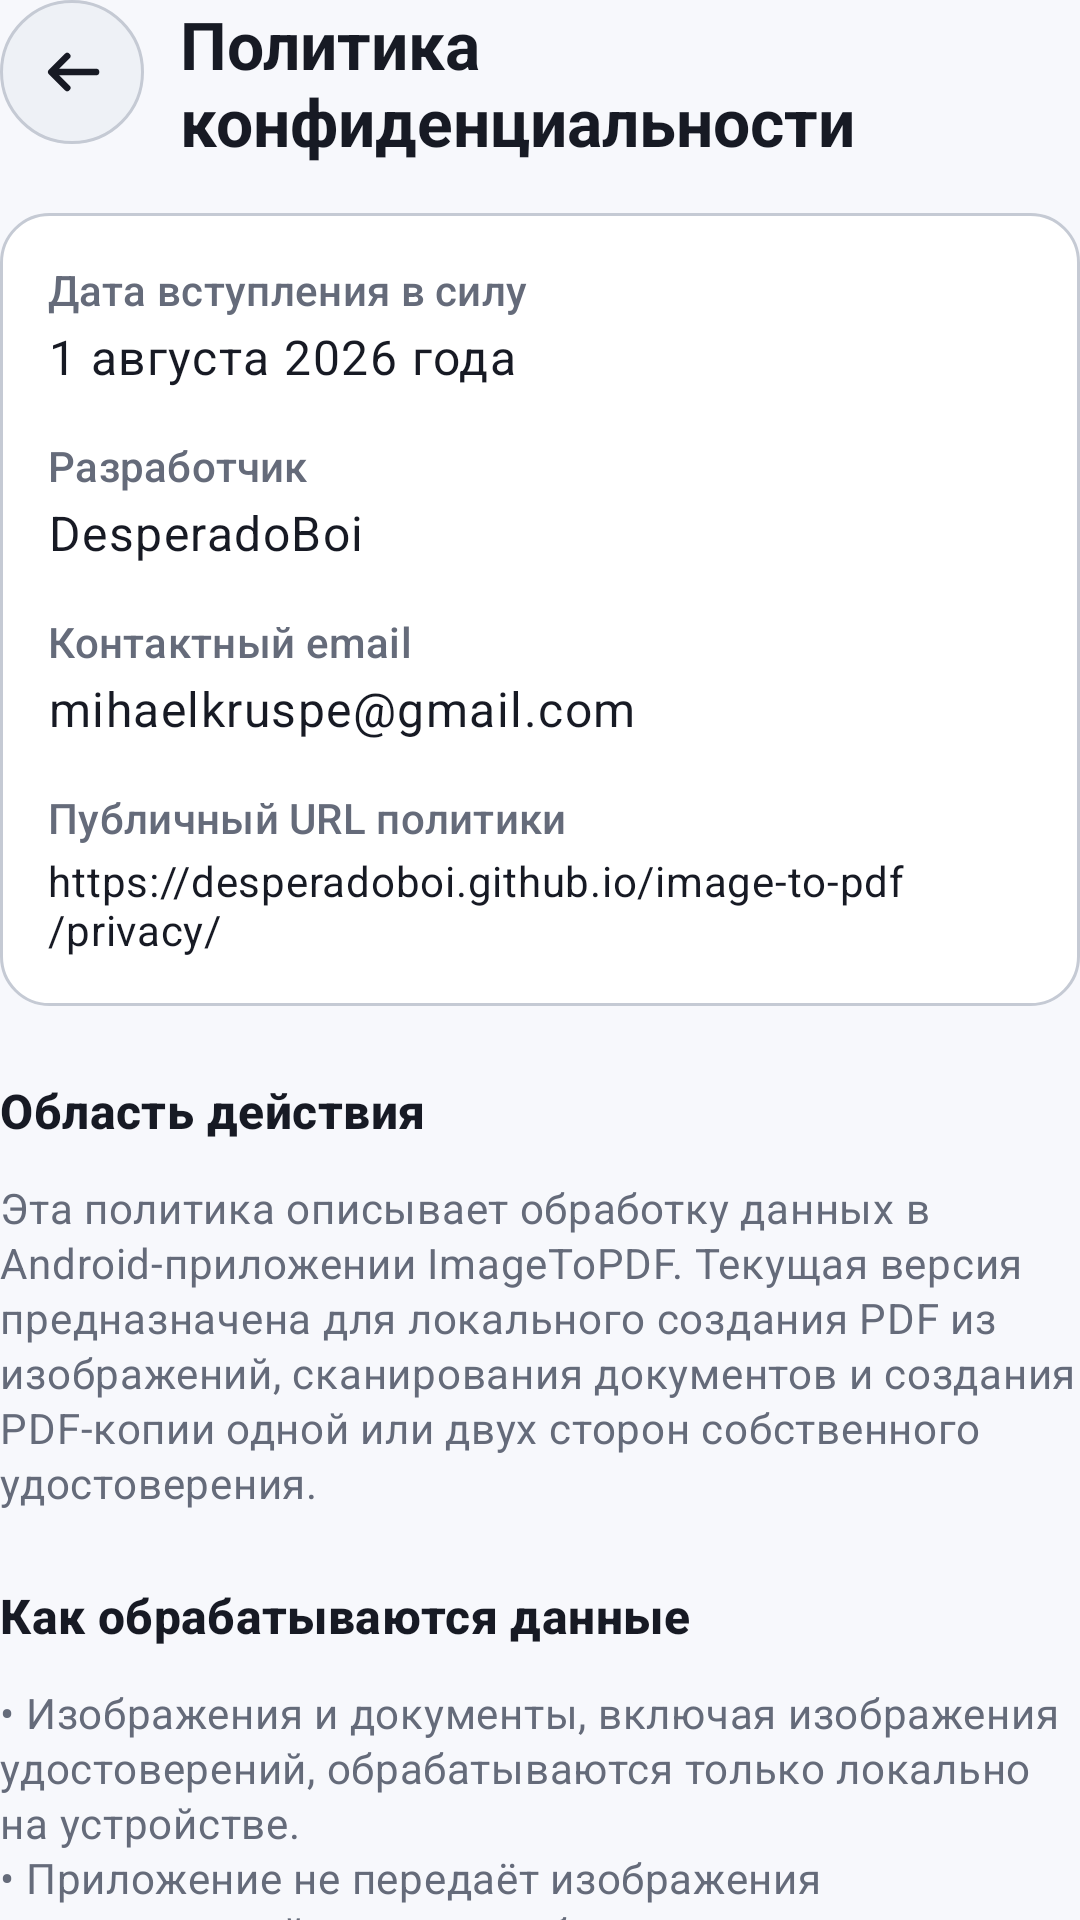

Where icons sit on this 1080 × 1920 app screen, as (x1, y1, x2, y2):
Вернуться к экрану «О приложении»: (0, 0, 144, 144)
